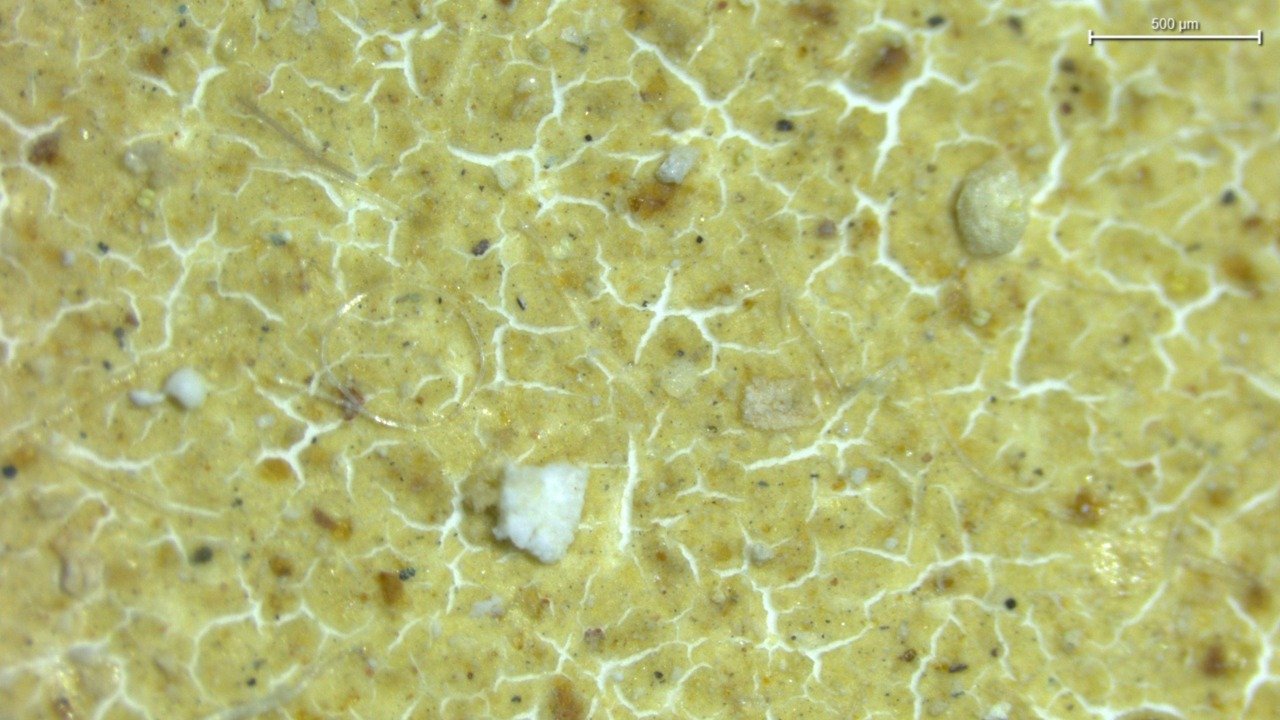microplastic_fragment: (494, 464, 589, 563), (954, 156, 1028, 257), (163, 368, 205, 410), (656, 146, 699, 183)
